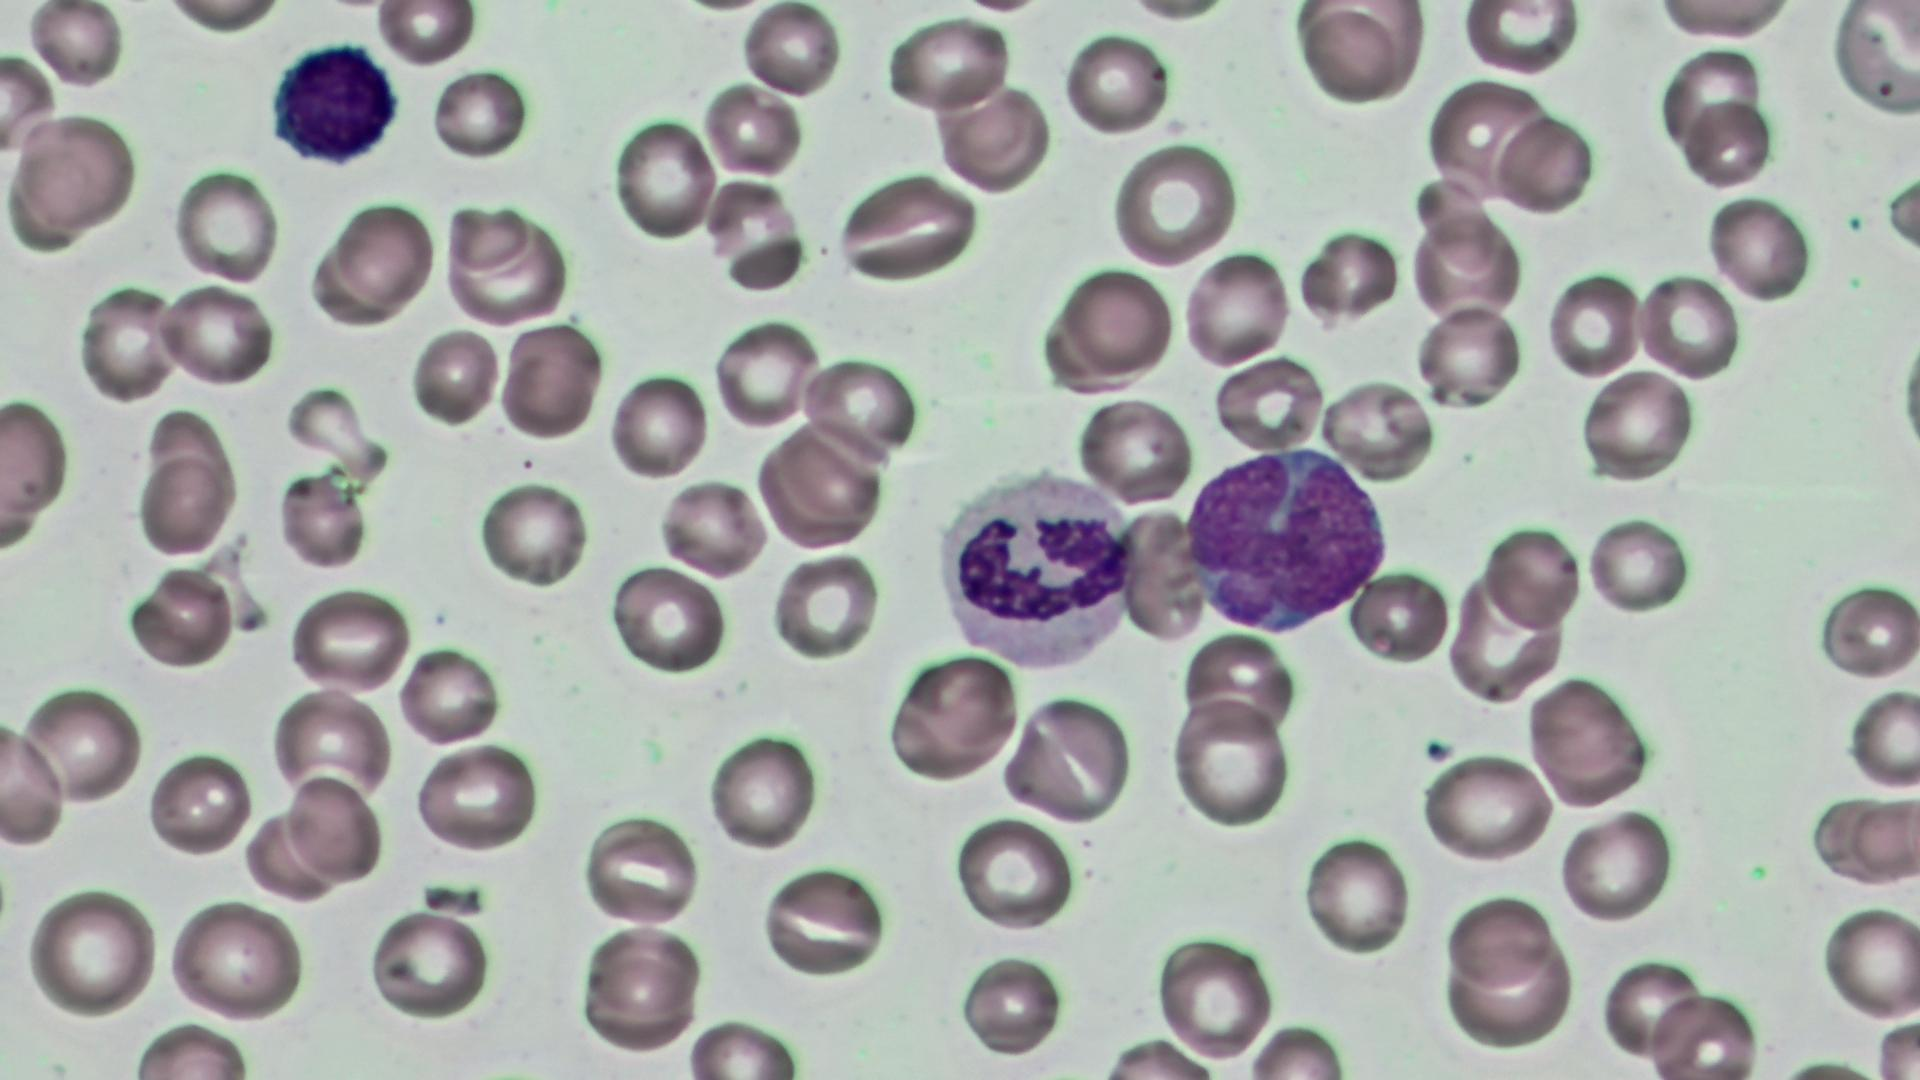RBC: (22, 882, 161, 1023), (164, 895, 310, 1024), (887, 647, 1021, 786), (1003, 691, 1136, 826), (835, 168, 983, 285), (574, 921, 705, 1053), (1170, 692, 1292, 832), (1444, 567, 1564, 707), (1108, 139, 1237, 269), (1153, 931, 1276, 1064), (1417, 751, 1557, 865), (1425, 75, 1548, 203), (758, 862, 890, 981), (757, 427, 884, 550), (15, 110, 140, 234), (1437, 940, 1575, 1052), (411, 740, 542, 856), (20, 684, 141, 808), (444, 208, 571, 326), (954, 814, 1077, 934), (272, 684, 394, 804), (577, 810, 701, 928), (366, 905, 492, 1021), (1578, 364, 1698, 485), (932, 77, 1056, 192), (611, 113, 718, 245), (1300, 831, 1412, 957), (706, 729, 819, 853), (1558, 808, 1676, 926), (1179, 247, 1290, 371), (1074, 393, 1194, 507), (610, 560, 726, 677), (883, 11, 1012, 116), (800, 352, 922, 463), (285, 583, 409, 692), (476, 477, 590, 593), (1058, 263, 1175, 376), (169, 166, 280, 284), (1654, 43, 1766, 159), (75, 281, 178, 406), (158, 280, 276, 389), (712, 314, 818, 434), (956, 948, 1069, 1060), (498, 321, 602, 441), (1635, 267, 1743, 382), (771, 549, 880, 662), (605, 366, 710, 483), (1294, 3, 1412, 107), (1820, 899, 1918, 1024), (1062, 29, 1173, 138), (1704, 194, 1812, 306), (1179, 629, 1294, 734), (282, 769, 384, 886), (1409, 213, 1520, 320), (122, 563, 235, 668), (147, 748, 255, 857), (1492, 110, 1599, 218), (704, 177, 806, 290), (0, 390, 72, 549), (1414, 302, 1522, 408), (1124, 510, 1210, 643), (1806, 787, 1917, 890), (1320, 376, 1431, 479), (1527, 674, 1635, 779), (283, 378, 390, 483), (1586, 512, 1694, 616), (1482, 521, 1582, 633), (396, 642, 503, 746), (1213, 354, 1324, 454), (1347, 563, 1452, 668), (336, 199, 435, 310), (1830, 0, 1920, 122), (1544, 269, 1642, 381), (657, 478, 765, 579), (1444, 891, 1556, 987), (1602, 958, 1704, 1061), (135, 451, 232, 558), (1647, 986, 1758, 1079), (1299, 225, 1402, 324), (700, 81, 803, 180), (740, 1, 843, 100), (1820, 579, 1918, 681), (408, 325, 502, 430), (430, 67, 531, 162), (276, 469, 369, 571), (1460, 0, 1582, 77), (0, 714, 68, 849), (24, 2, 125, 91), (1680, 95, 1773, 191), (1845, 683, 1920, 791), (443, 198, 535, 279), (372, 1, 475, 66), (0, 53, 57, 158), (1652, 0, 1796, 41), (161, 0, 284, 35)
WBC: (1178, 437, 1395, 639), (935, 466, 1139, 676), (264, 36, 406, 168)
